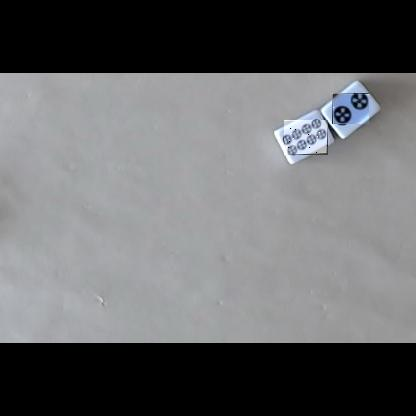2p: (332, 93, 369, 124)
8p: (284, 120, 328, 155)
